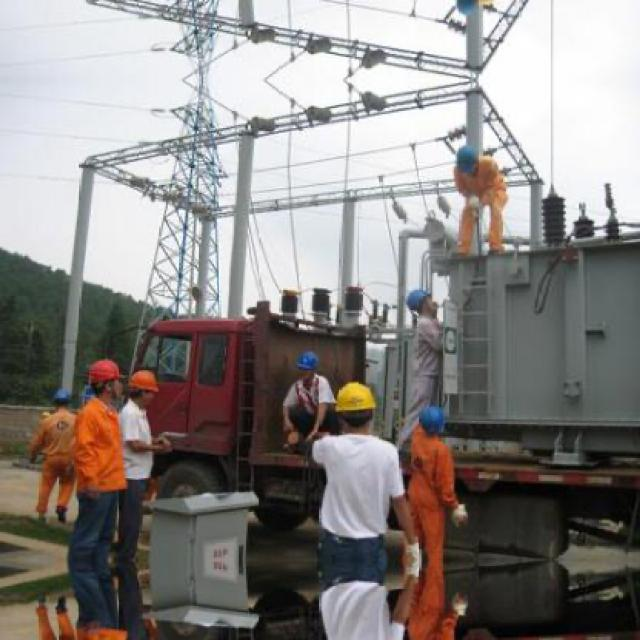helmet: (334, 378, 380, 433), (88, 358, 123, 402), (125, 367, 160, 407), (405, 288, 443, 316), (420, 407, 448, 443), (292, 350, 320, 381), (454, 145, 481, 177), (52, 387, 74, 416), (452, 0, 482, 17)
